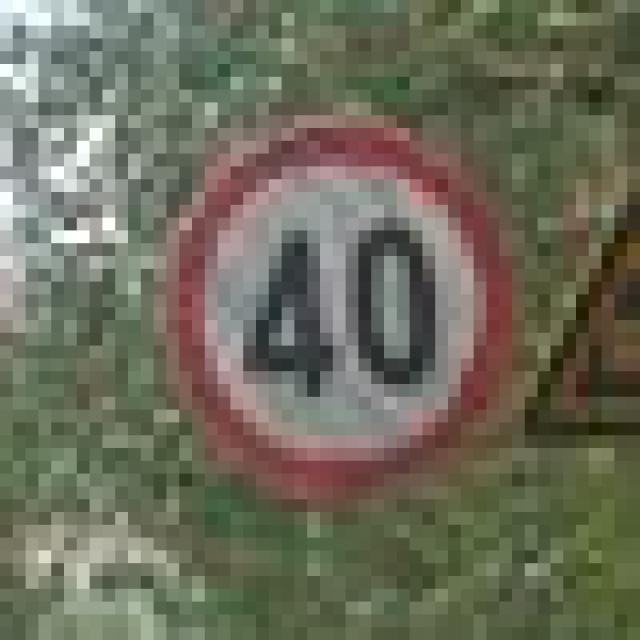falling_rocks: (154, 90, 486, 487)
